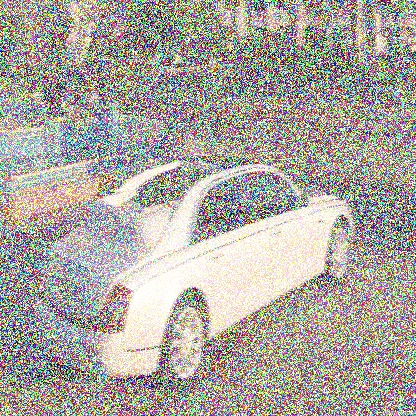Vehicle: (36, 152, 355, 390)
